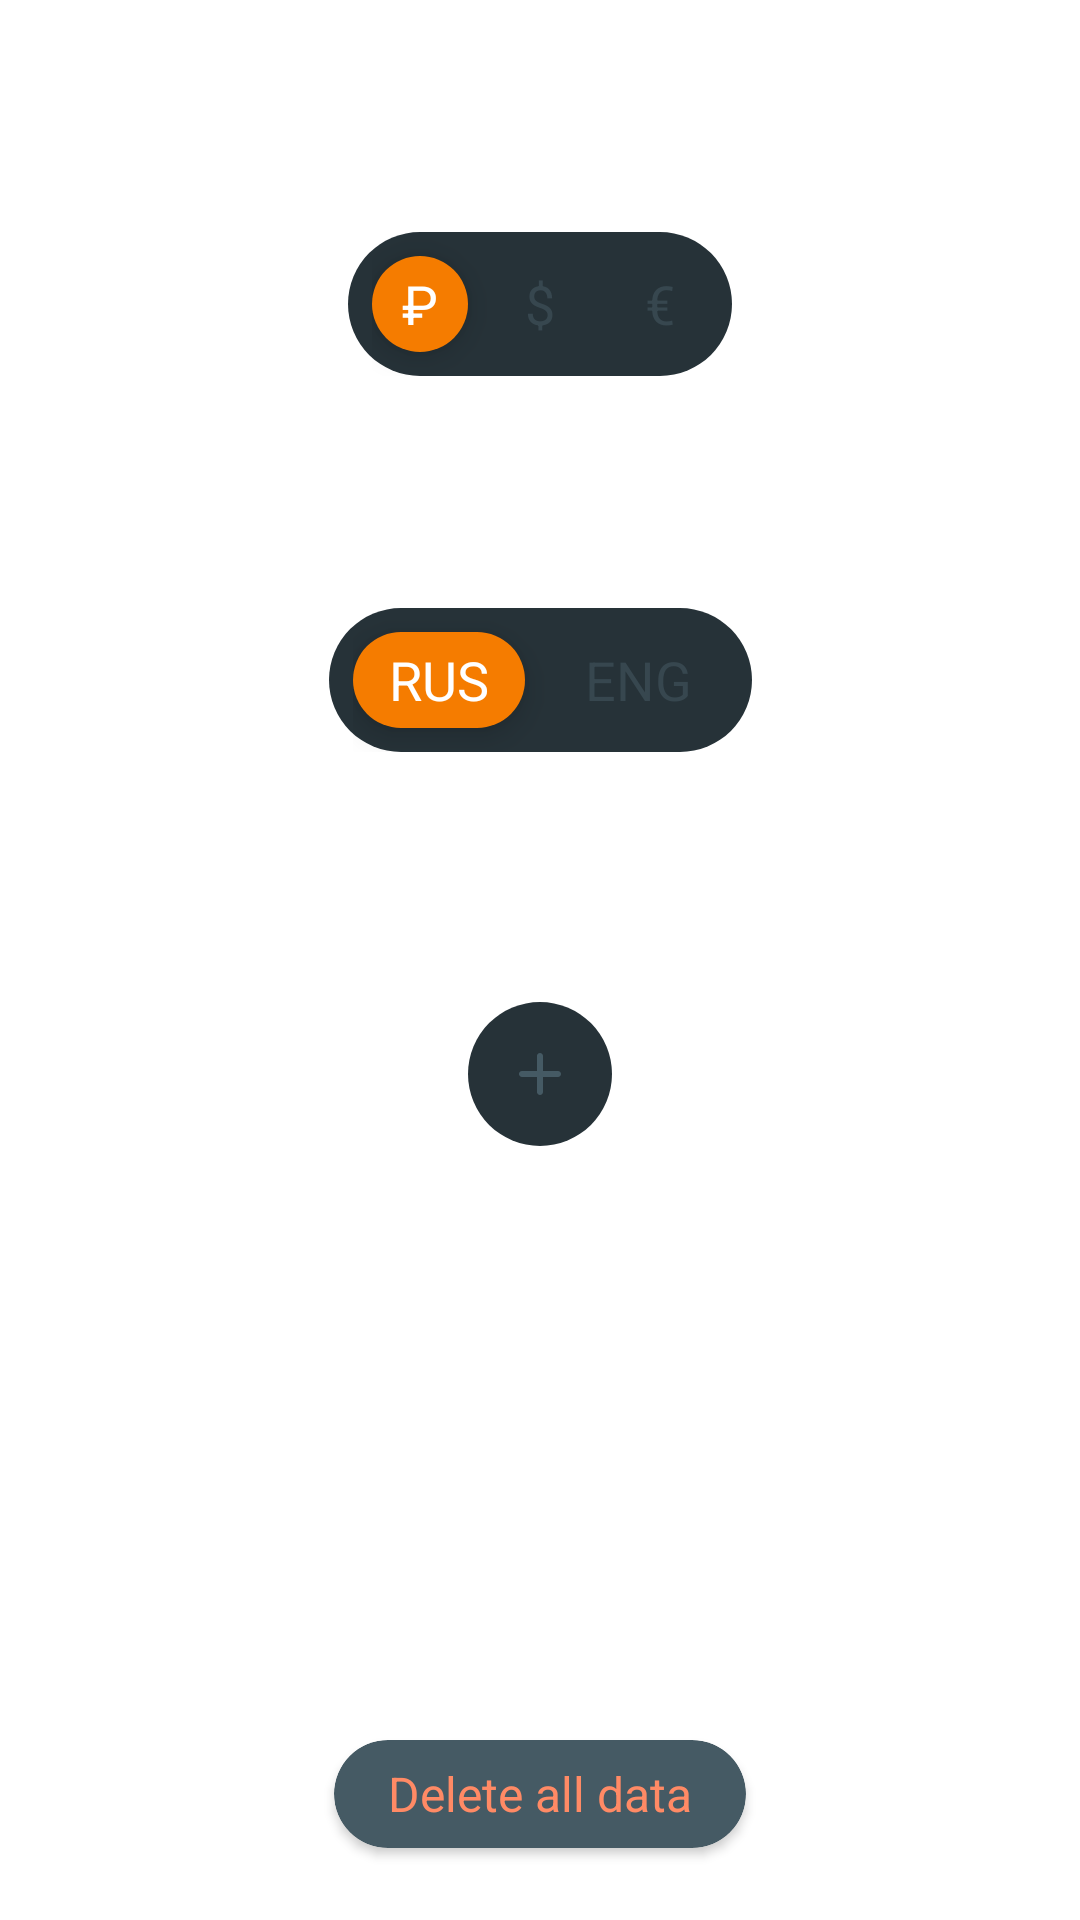

Named icons in this screenshot (1080 × 1920) and their centers, (x=x, y=y):
add: (x=540, y=1074)
